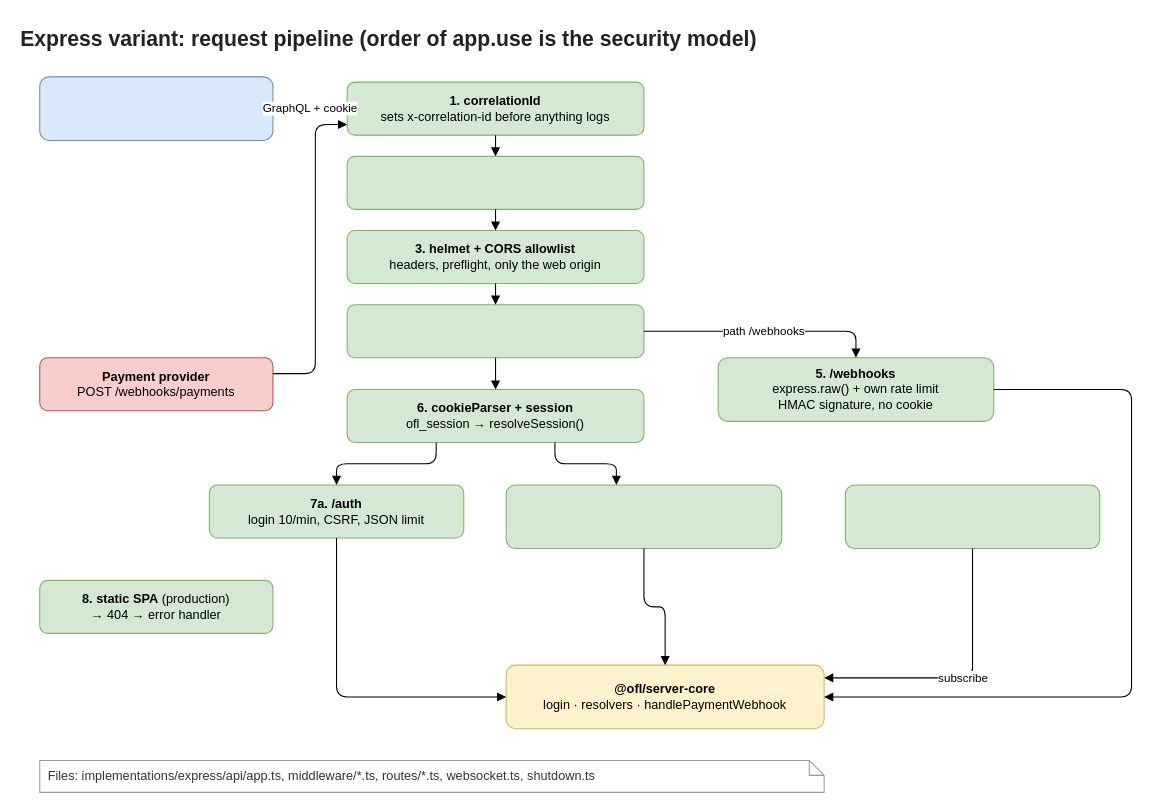
This 1159x811 diagram has some shape labels left out. Each missing label, with the box of its shape:
2. httpMetrics measures everything below: (346, 155, 644, 209)
4. health routes /health/live, /health/ready, /metrics: no session: (346, 304, 644, 358)
7b. /graphql 300/min, CSRF x-ofl-csrf: 1, express.json, yoga(req,res): (505, 484, 782, 549)
React SPA Vite dev :9002 proxies to :9001: (39, 76, 273, 140)
ws server (same HTTP server) graphql-ws, origin check: (844, 484, 1100, 549)
